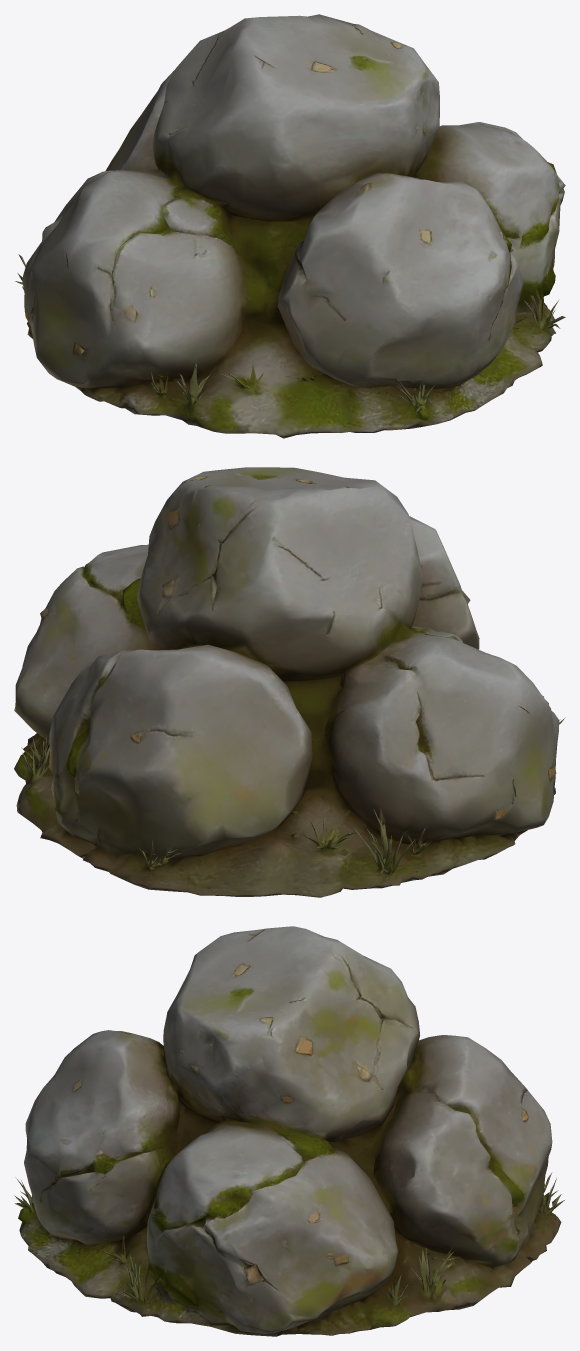
File: rock_3.glb
3 views of the same model, one above another, from view 1: azimuth 30°, elevation 25°; view 2: azimuth 150°, elevation 25°; view 3: azimuth 270°, elevation 25° (orthographic). The views are drawn at different scales.
Parts seen in each view (by area): view 1: tripo_node_caa13361-9829-4024-b0d9-131ca62aea13; view 2: tripo_node_caa13361-9829-4024-b0d9-131ca62aea13; view 3: tripo_node_caa13361-9829-4024-b0d9-131ca62aea13.
Part boxes in pixels (box(x1,y1,x2,y2)): tripo_node_caa13361-9829-4024-b0d9-131ca62aea13: box(15, 14, 565, 438); tripo_node_caa13361-9829-4024-b0d9-131ca62aea13: box(14, 467, 565, 897); tripo_node_caa13361-9829-4024-b0d9-131ca62aea13: box(14, 926, 564, 1336).
Bounding box in the file's own units: 4.08 × 2.3 × 4.05.
Materials: 1 (1 with a texture image).
